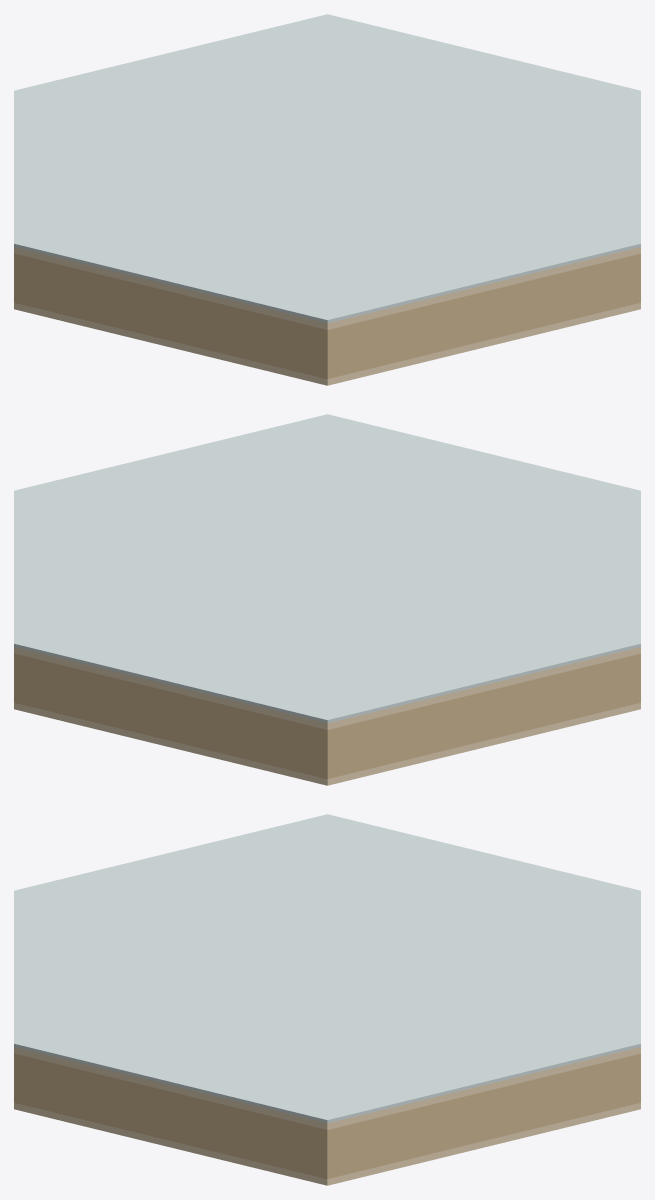
Rendered from terrain.glb.
3 views of the same model, one above another, from view 1: azimuth 30°, elevation 25°; view 2: azimuth 150°, elevation 25°; view 3: azimuth 270°, elevation 25° (orthographic).
Visible parts, largest first — view 1: Tile_Snow_Geometry; view 2: Tile_Snow_Geometry; view 3: Tile_Snow_Geometry.
Boxes of the visible parts, <box> form: Tile_Snow_Geometry: <box>14,14,640,385</box>; Tile_Snow_Geometry: <box>14,414,640,785</box>; Tile_Snow_Geometry: <box>14,814,640,1185</box>.
Bounding box in the file's own units: 2 × 0.2 × 1.73.
